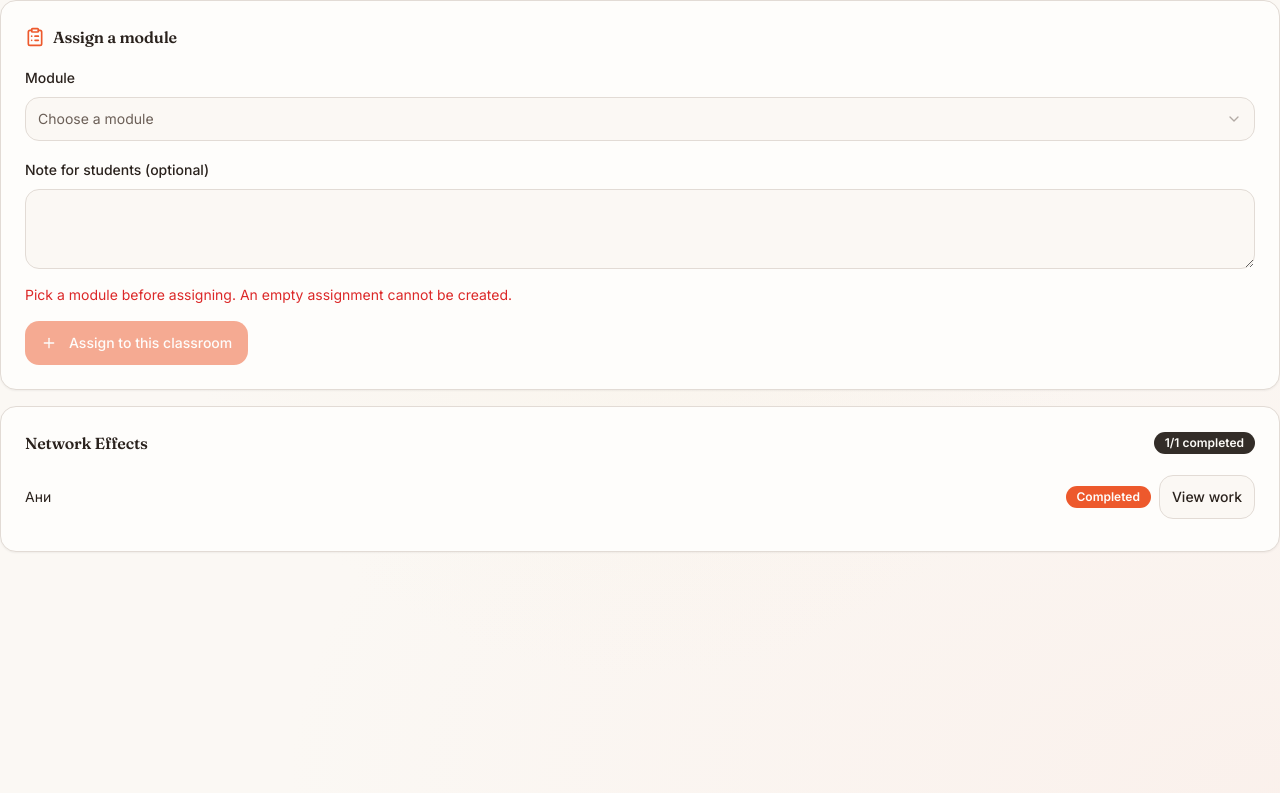
Test case: 4. existing feedback is loaded and updated › prefills the textarea and updates instead of inserting
Later steps or results of the test are not shown.
Click the button "View work".
click(1207, 497)  # box [1159,475,1255,519]
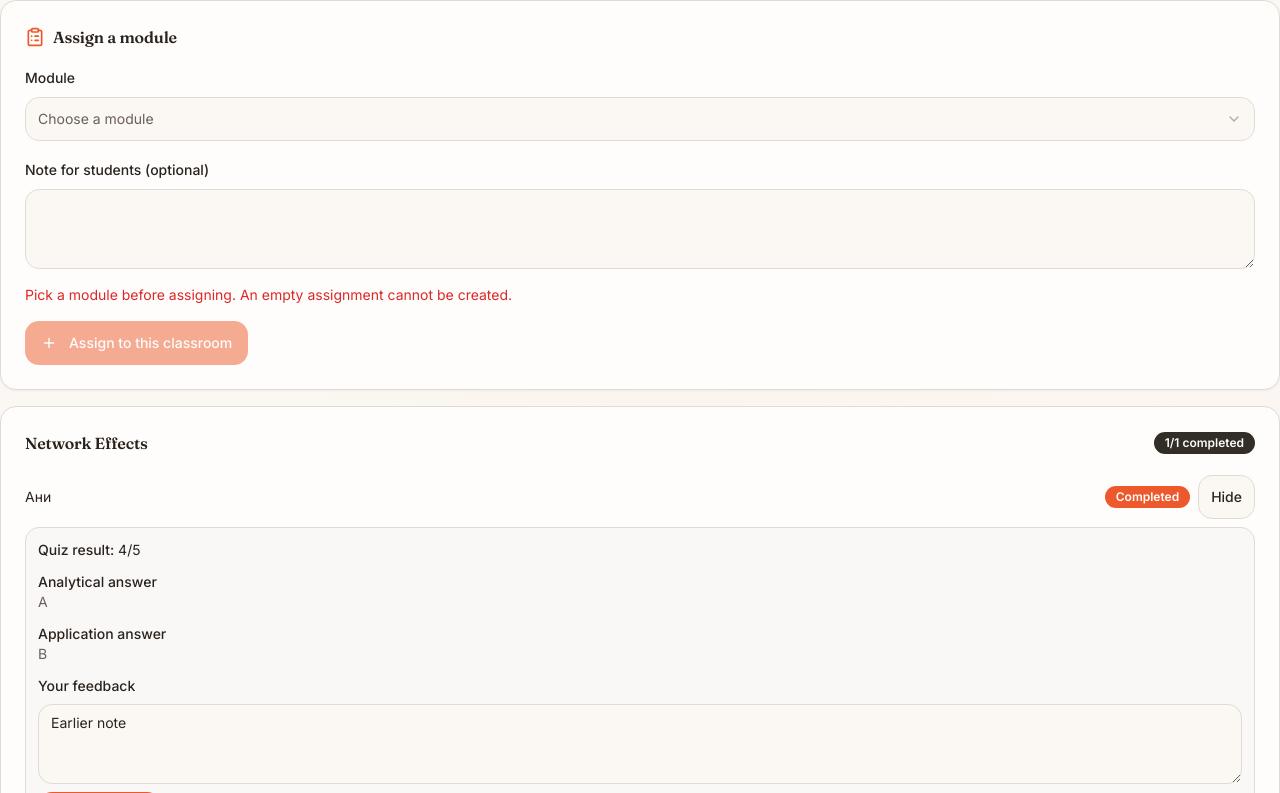
Expected: the text box labelled "Your feedback" holds "Earlier note", [38,704,1242,784]
